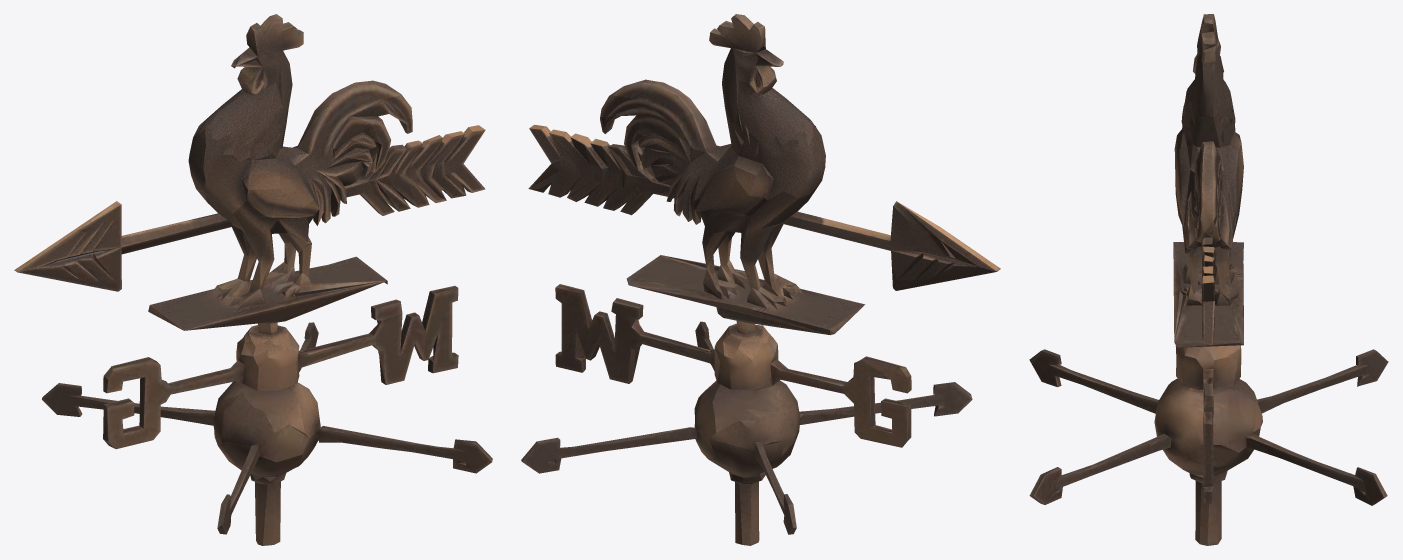
3 views of the same model, side by side, from view 1: azimuth 30°, elevation 25°; view 2: azimuth 150°, elevation 25°; view 3: azimuth 270°, elevation 25° (orthographic).
Bounding box in the file's own units: 0.9351 × 1 × 0.6177.
1 material, 1 textured.
